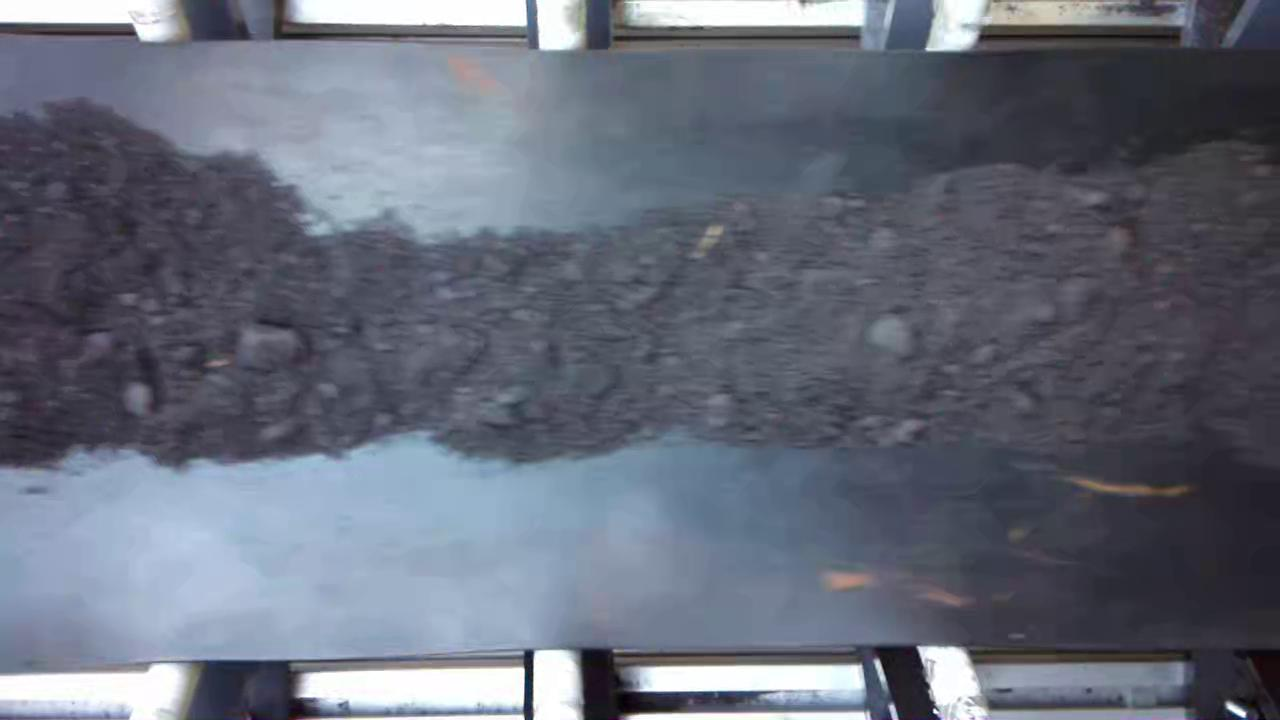conveyor: (9, 51, 1269, 632)
